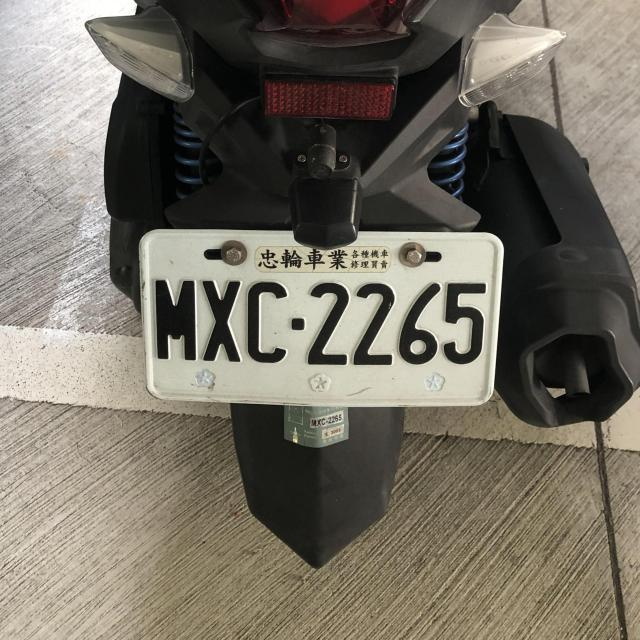W: (132, 222, 506, 421)
